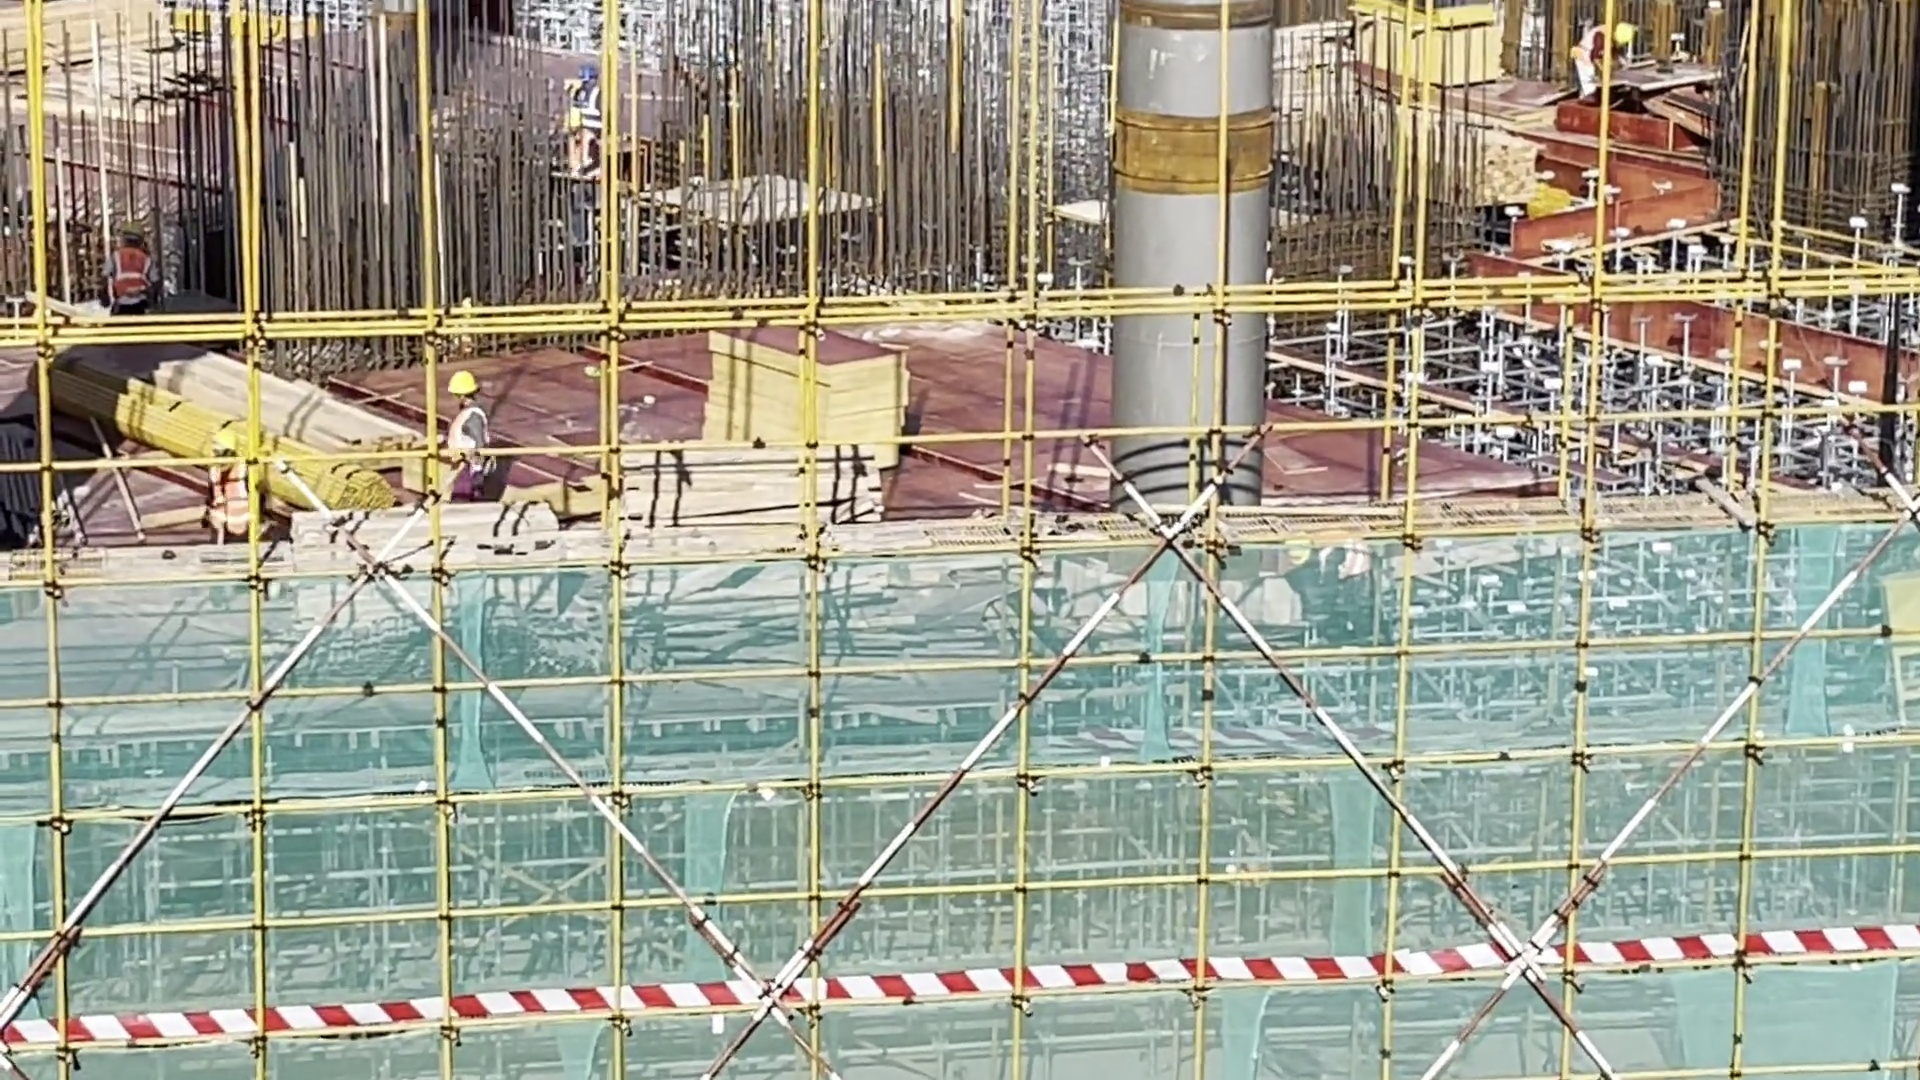helmet: (450, 363, 479, 403), (115, 213, 142, 244), (209, 423, 236, 454), (1615, 17, 1637, 43), (559, 108, 588, 125)
person: (1564, 13, 1644, 110), (442, 369, 495, 514), (206, 425, 262, 545), (548, 111, 614, 195), (99, 209, 149, 311)
vest: (209, 461, 261, 527), (445, 405, 491, 472), (1570, 28, 1629, 80), (570, 122, 600, 178), (111, 244, 143, 291)
